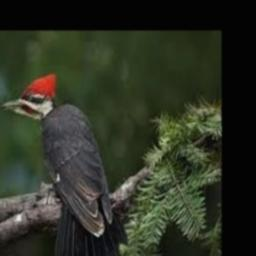Woodpecker: (0, 71, 126, 256)
